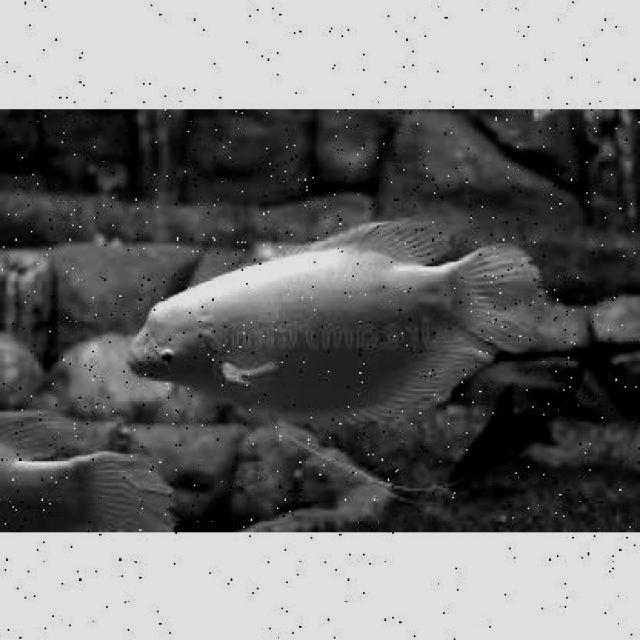gurame: (127, 214, 538, 426)
